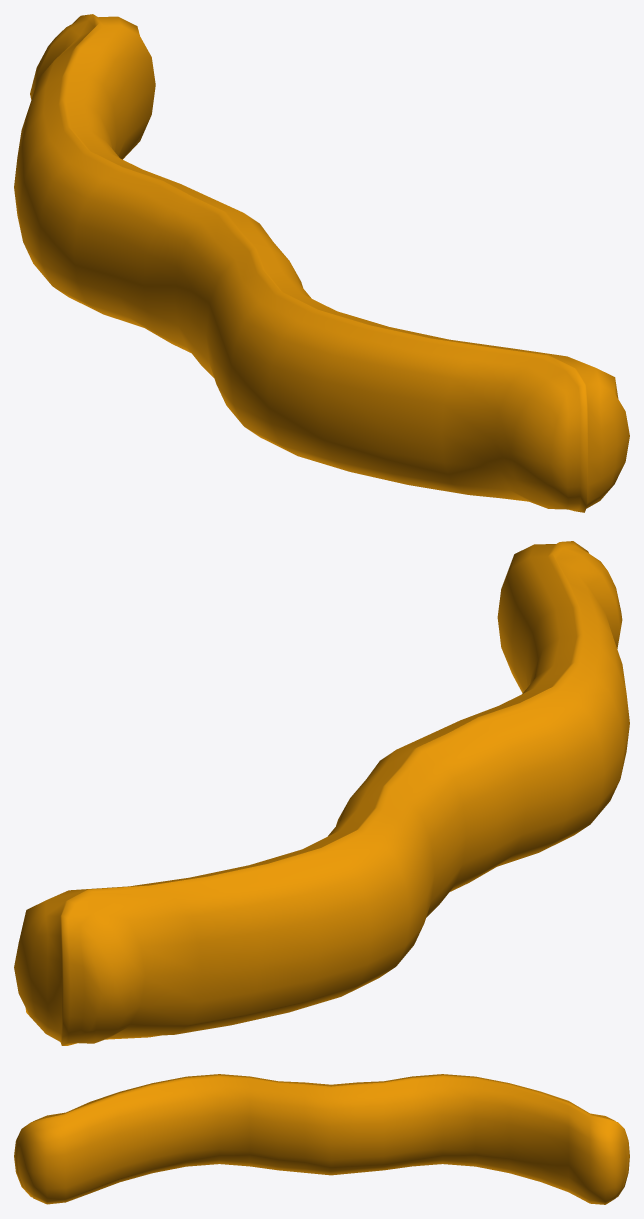
File: Bow_001.fbx
3 renders of one model, top to bottom at view 1: azimuth 30°, elevation 25°; view 2: azimuth 150°, elevation 25°; view 3: azimuth 270°, elevation 25°, orthographic. The views are drawn at different scales.
Parts seen in each view (by area): view 1: Cube.013; view 2: Cube.013; view 3: Cube.013.
Boxes of the visible parts, x1,y1,x2,y2 form: Cube.013: [14, 14, 629, 512]; Cube.013: [14, 541, 629, 1045]; Cube.013: [14, 1074, 629, 1204].
Size of the model in its own units: 11.53 by 6.71 by 42.99.
